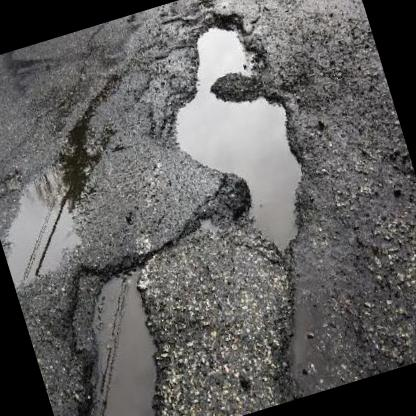pothole: (136, 0, 332, 279), (13, 241, 204, 416)
